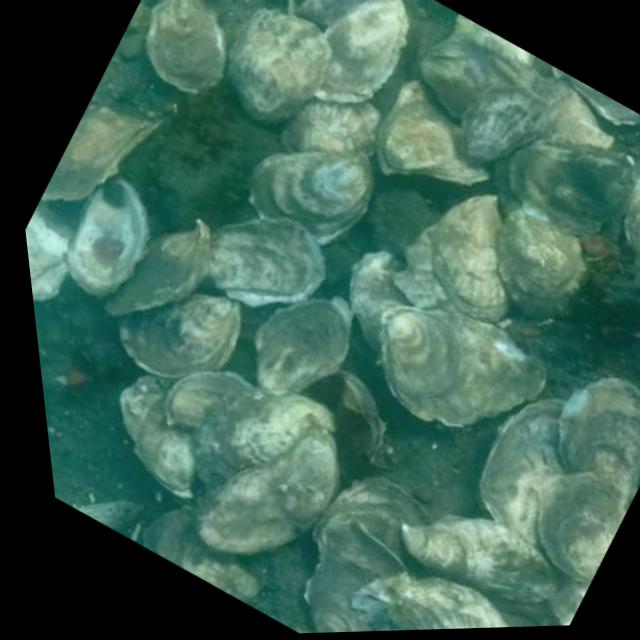Oyster-Closed: (207, 218, 324, 307), (163, 371, 259, 428)
Oyster-Indeterminate: (478, 398, 591, 625), (375, 305, 545, 426), (195, 424, 340, 555), (393, 196, 513, 325), (191, 390, 339, 489), (401, 515, 559, 602), (508, 133, 634, 234), (303, 517, 410, 633), (312, 477, 434, 578), (228, 11, 333, 125), (374, 80, 490, 183), (138, 507, 260, 604), (250, 152, 375, 244), (558, 377, 640, 511), (40, 109, 159, 200), (118, 294, 240, 382), (421, 32, 540, 119), (105, 219, 211, 313), (314, 0, 409, 103), (537, 471, 625, 581), (498, 210, 590, 313), (121, 376, 195, 498), (349, 574, 507, 631), (255, 299, 352, 391), (146, 0, 225, 93), (349, 250, 414, 357), (460, 85, 551, 161), (336, 372, 400, 468), (279, 100, 381, 157), (538, 77, 614, 149), (551, 66, 640, 125), (25, 201, 74, 300), (449, 15, 534, 64), (73, 503, 140, 539), (296, 0, 379, 23), (623, 177, 640, 260)
